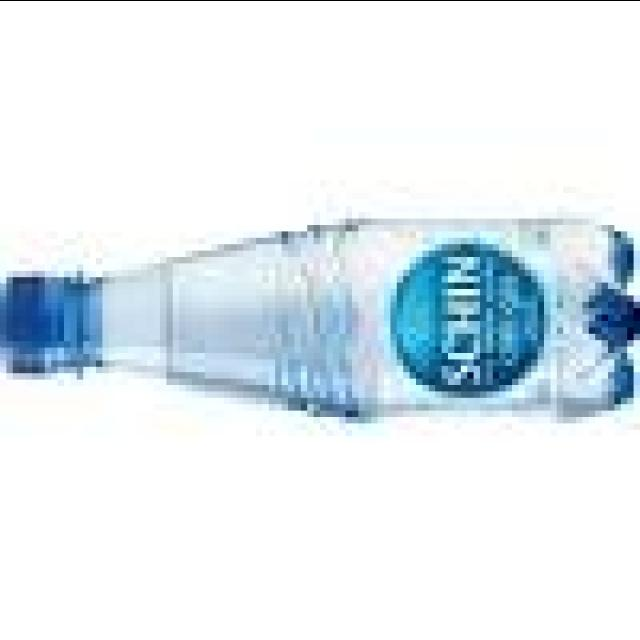bottom: (543, 210, 640, 431)
cap: (1, 232, 115, 414)
